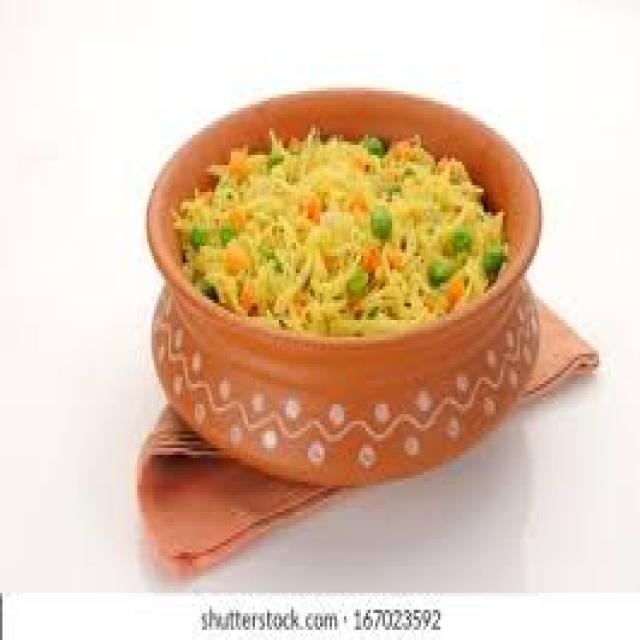POHA: (173, 128, 503, 330)
